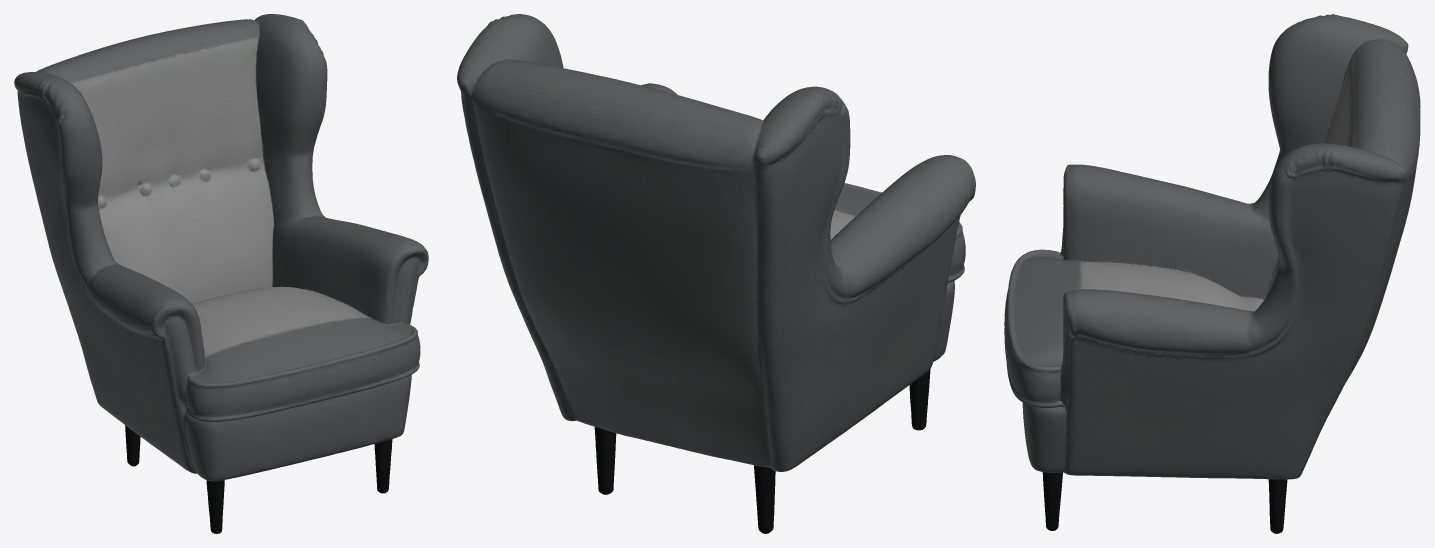
The picture shows the model from 3 angles, left to right: view 1: azimuth 30°, elevation 25°; view 2: azimuth 150°, elevation 25°; view 3: azimuth 270°, elevation 25°; orthographic projection. The views are drawn at different scales.
Parts seen in each view (by area): view 1: geometry_0; view 2: geometry_0; view 3: geometry_0.
Part boxes in pixels (left/top/right/bottom): geometry_0: left=14, top=14, right=428, bottom=533; geometry_0: left=457, top=14, right=975, bottom=533; geometry_0: left=1004, top=14, right=1420, bottom=533.
Bounding box in the file's own units: 0.6968 × 0.9065 × 0.8189.
Materials: 1 (1 with a texture image).
